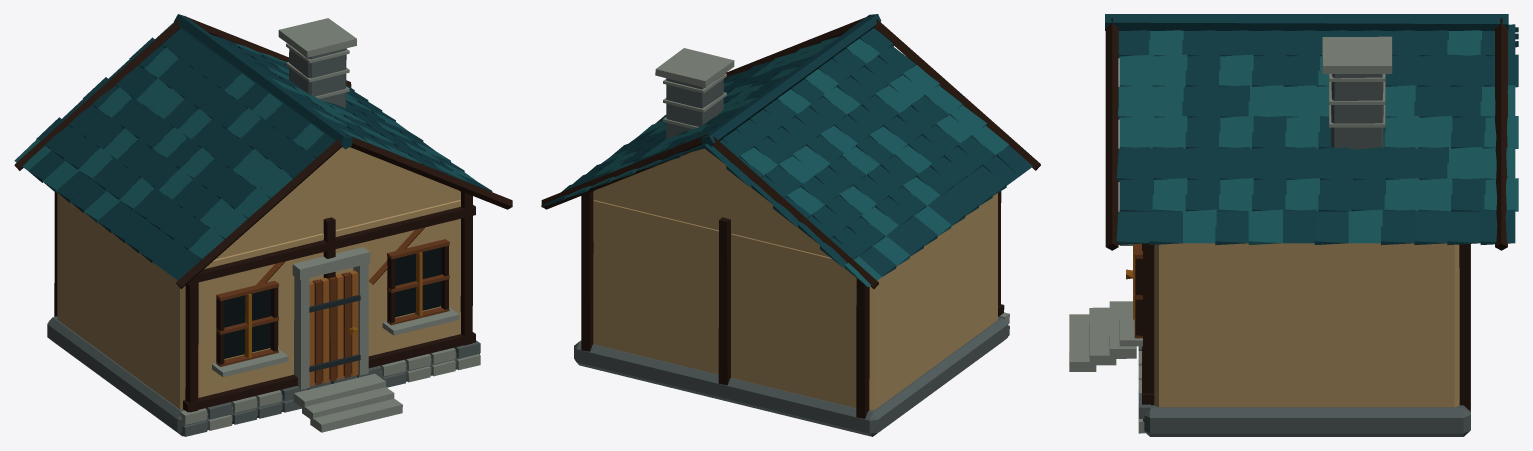
The model's file is Casa_do_artesao_LOD1.fbx.
3 views of the same model, side by side, from view 1: azimuth 30°, elevation 25°; view 2: azimuth 150°, elevation 25°; view 3: azimuth 270°, elevation 25° (orthographic). The views are drawn at different scales.
Parts seen in each view (by area): view 1: Casa_do_artesao_LOD1; view 2: Casa_do_artesao_LOD1; view 3: Casa_do_artesao_LOD1.
Boxes of the visible parts, left/top/right/bottom form: Casa_do_artesao_LOD1: left=14, top=14, right=512, bottom=436; Casa_do_artesao_LOD1: left=541, top=14, right=1040, bottom=436; Casa_do_artesao_LOD1: left=1069, top=14, right=1518, bottom=436.
Size of the model in its own units: 649 by 526 by 624.
Materials: 1 (1 with a texture image).
